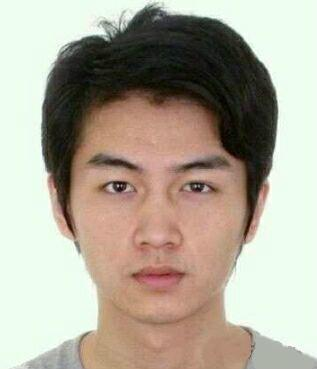unmask: (61, 117, 248, 307)
